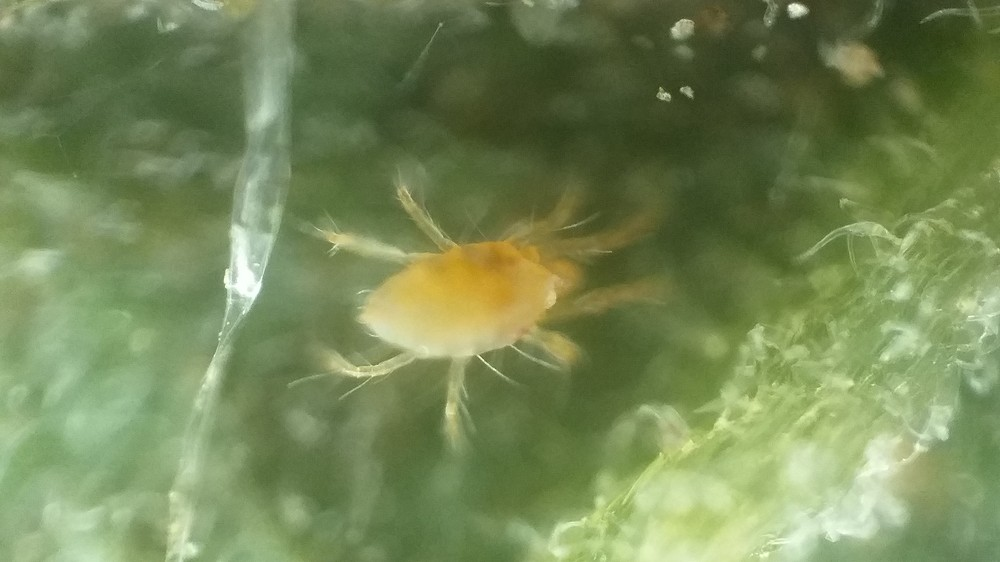Aracnido Rojo: (289, 166, 695, 427)
